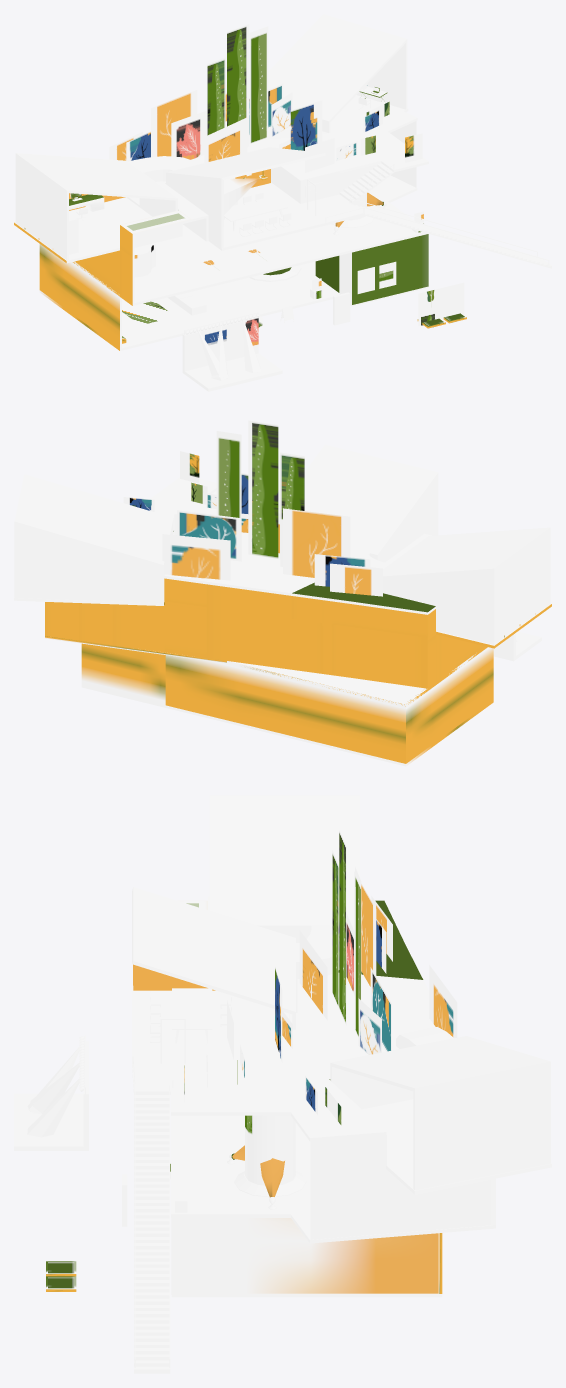
File: 1120_设计中心.fbx
The picture shows the model from 3 angles, top to bottom: view 1: azimuth 30°, elevation 25°; view 2: azimuth 150°, elevation 25°; view 3: azimuth 270°, elevation 25°; orthographic projection. The views are drawn at different scales.
Parts seen in each view (by area): view 1: building, stage, Plane, Plane_2, Plane_11, stairs4, Plane_6_2, Plane_3, Plane_5, Plane_4_2, Plane_4, Plane_1 (+17 smaller); view 2: building, Plane, Plane_11, Plane_12, Plane_2, Plane_10, Plane_13, Plane_1, Plane_14, stage, tree_5; view 3: building, glass_2, glass, stairs4, pillar, stage, table_13, Plane_4, Plane, Plane_12, Plane_11, glass_3_Spline_sweep (+8 smaller).
Boxes of the visible parts, x1,y1,x2,y2 form: building: (14, 14, 428, 350); stage: (182, 312, 282, 391); Plane: (227, 24, 249, 146); Plane_2: (249, 26, 268, 143); Plane_11: (151, 90, 197, 157); stairs4: (355, 205, 551, 268); Plane_6_2: (418, 282, 464, 326); Plane_3: (171, 110, 206, 159); Plane_5: (290, 100, 322, 150); Plane_4_2: (199, 246, 287, 277); Plane_4: (204, 117, 247, 162); Plane_1: (207, 57, 225, 135); building: (14, 444, 551, 766); Plane: (248, 420, 278, 558); Plane_11: (283, 508, 350, 577); Plane_12: (162, 534, 230, 580); Plane_2: (216, 431, 241, 518); Plane_10: (177, 510, 241, 561); Plane_13: (330, 563, 382, 596); Plane_1: (280, 452, 304, 559); Plane_14: (314, 554, 370, 586); stage: (493, 631, 541, 661); tree_5: (180, 451, 199, 483); building: (132, 795, 551, 1297); glass_2: (175, 1218, 438, 1293); glass: (310, 1135, 491, 1239); stairs4: (134, 1092, 170, 1373); pillar: (234, 1115, 306, 1197); stage: (14, 1035, 88, 1150); table_13: (172, 988, 212, 1043); Plane_4: (299, 930, 327, 1020); Plane: (339, 830, 346, 1025); Plane_12: (429, 965, 457, 1038); Plane_11: (354, 871, 376, 986); glass_3_Spline_sweep: (132, 1056, 170, 1367).
Size of the model in its own units: 3104 by 1623 by 2149.
